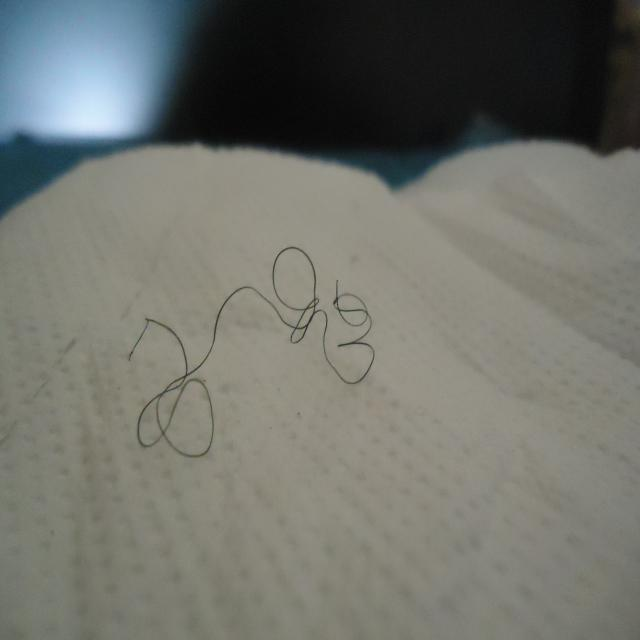hair: (122, 240, 379, 466)
